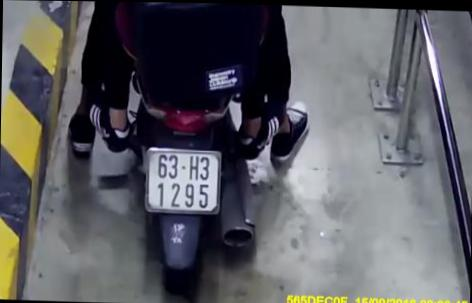LP: (141, 142, 225, 216)
